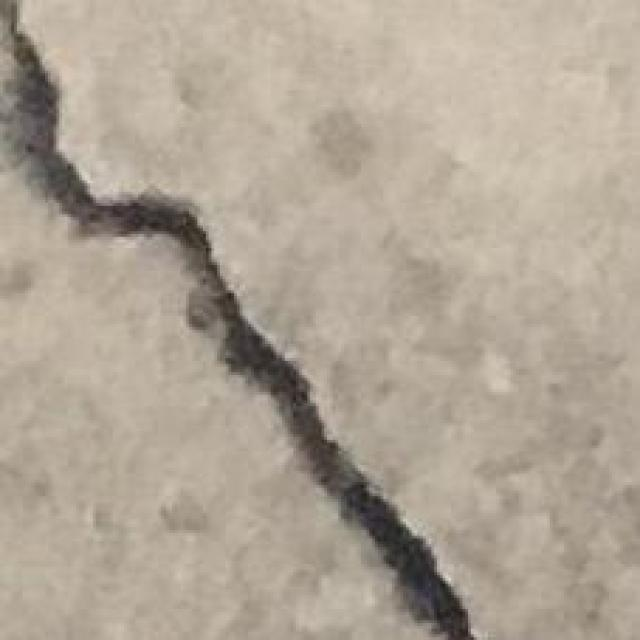diagonal crack: (0, 3, 475, 639)
